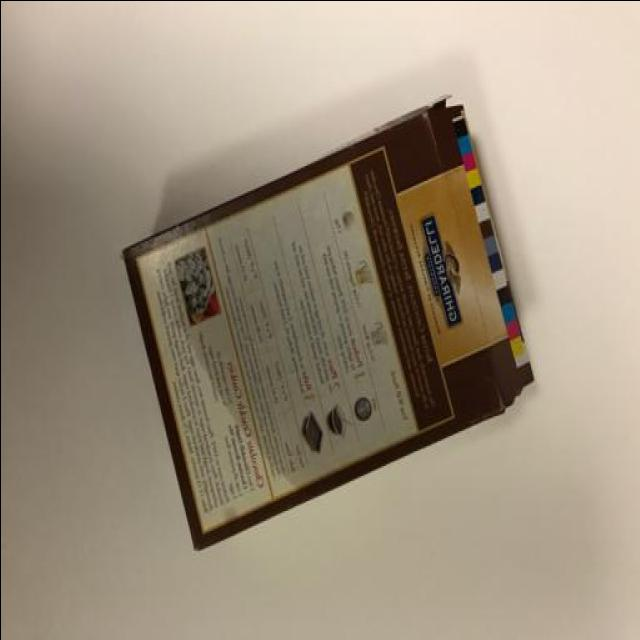kertas: (118, 90, 534, 552)
